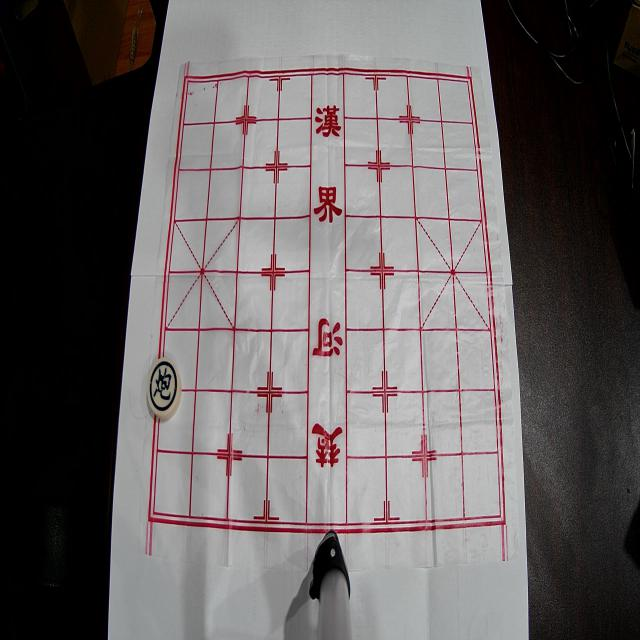black-cannon: (147, 358, 181, 420)
